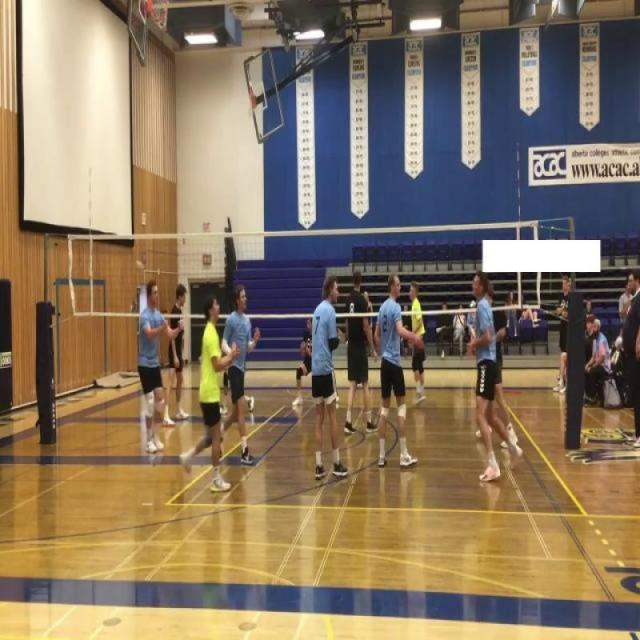volleyball: (135, 260, 145, 272), (198, 355, 202, 364)
